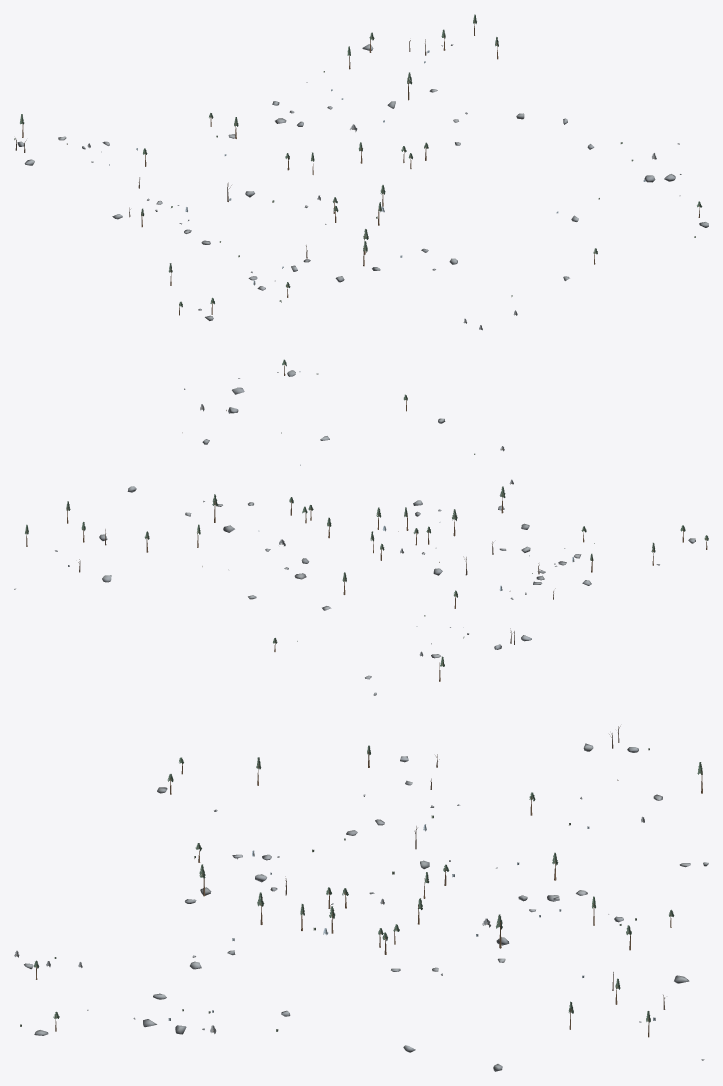
Rendered from frost_land_scatter_c19_09_lod1.glb.
The picture shows the model from 3 angles, top to bottom: view 1: azimuth 30°, elevation 25°; view 2: azimuth 150°, elevation 25°; view 3: azimuth 270°, elevation 25°; orthographic projection. The views are drawn at different scales.
Visible parts, largest first — view 1: frost_land_scatter_c19_09_lod1; view 2: frost_land_scatter_c19_09_lod1; view 3: frost_land_scatter_c19_09_lod1.
Part boxes in pixels (bbox=[...]): frost_land_scatter_c19_09_lod1: bbox=[14, 14, 708, 330]; frost_land_scatter_c19_09_lod1: bbox=[14, 359, 708, 695]; frost_land_scatter_c19_09_lod1: bbox=[14, 726, 708, 1071].
Size of the model in its own units: 250 by 48.08 by 239.
